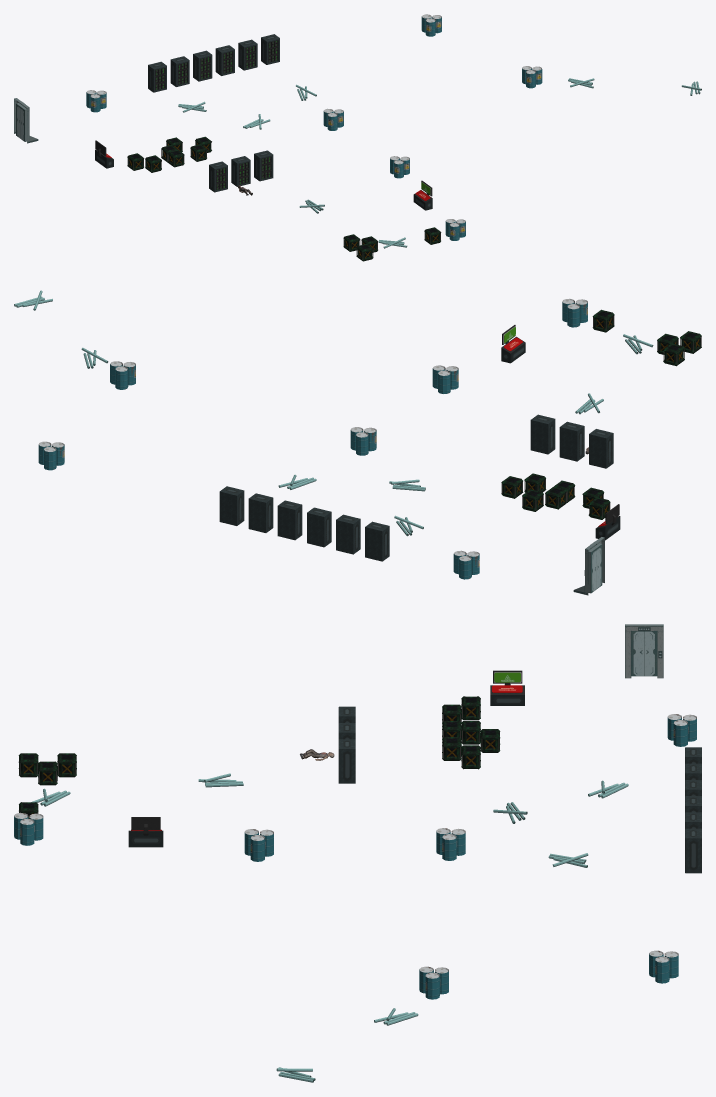
File: MK_Ship_Props.fbx
The picture shows the model from 3 angles, top to bottom: view 1: azimuth 30°, elevation 25°; view 2: azimuth 150°, elevation 25°; view 3: azimuth 270°, elevation 25°; orthographic projection. The views are drawn at different scales.
Visible parts, largest first — view 1: MK_Ship_Elevator1, SM_BigServerComputer88, SM_BigServerComputer90, SM_BigServerComputer91, SM_BigServerComputer96, SM_BigServerComputer89, SM_BigServerComputer94, SM_BigServerComputer95, SM_BigServerComputer87, SM_BigServerComputer93, SM_OilDrums29, SM_OilDrums34 (+5 smaller); view 2: MK_Ship_Elevator1, SM_BigServerComputer90, SM_BigServerComputer91, SM_BigServerComputer94, SM_BigServerComputer95, SM_BigServerComputer96, SM_BigServerComputer89, SM_BigServerComputer87, SM_BigServerComputer88, SM_BigServerComputer93, SM_OilDrums34, SM_OilDrums31 (+6 smaller); view 3: MK_Ship_Elevator1, SM_ComputerDesk32, SM_ComputerDesk33, SM_OilDrums34, SM_OilDrums33, SM_OilDrums32, SM_OilDrums30, SM_OilDrums31, SM_OilDrums29, SM_BigServerComputer96, SM_BigServerComputer95.
Part boxes in pixels (x1=…): MK_Ship_Elevator1: x1=14, y1=98, x2=38, y2=143; SM_BigServerComputer88: x1=170, y1=56, x2=189, y2=86; SM_BigServerComputer90: x1=215, y1=45, x2=234, y2=75; SM_BigServerComputer91: x1=238, y1=39, x2=257, y2=70; SM_BigServerComputer96: x1=254, y1=150, x2=273, y2=181; SM_BigServerComputer89: x1=193, y1=50, x2=212, y2=81; SM_BigServerComputer94: x1=231, y1=156, x2=250, y2=186; SM_BigServerComputer95: x1=261, y1=34, x2=279, y2=64; SM_BigServerComputer87: x1=148, y1=61, x2=166, y2=92; SM_BigServerComputer93: x1=209, y1=161, x2=227, y2=192; SM_OilDrums29: x1=86, y1=90, x2=106, y2=112; SM_OilDrums34: x1=421, y1=14, x2=441, y2=36; MK_Ship_Elevator1: x1=573, y1=537, x2=604, y2=595; SM_BigServerComputer90: x1=277, y1=500, x2=302, y2=540; SM_BigServerComputer91: x1=248, y1=493, x2=273, y2=532; SM_BigServerComputer94: x1=559, y1=421, x2=584, y2=461; SM_BigServerComputer95: x1=219, y1=486, x2=244, y2=525; SM_BigServerComputer96: x1=530, y1=414, x2=555, y2=454; SM_BigServerComputer89: x1=307, y1=507, x2=331, y2=547; SM_BigServerComputer87: x1=365, y1=521, x2=389, y2=561; SM_BigServerComputer88: x1=336, y1=514, x2=360, y2=554; SM_BigServerComputer93: x1=589, y1=429, x2=613, y2=468; SM_OilDrums34: x1=38, y1=441, x2=64, y2=470; SM_OilDrums31: x1=432, y1=365, x2=458, y2=393; MK_Ship_Elevator1: x1=625, y1=624, x2=663, y2=678; SM_ComputerDesk32: x1=490, y1=670, x2=524, y2=705; SM_ComputerDesk33: x1=128, y1=817, x2=163, y2=847; SM_OilDrums34: x1=649, y1=950, x2=678, y2=983; SM_OilDrums33: x1=419, y1=966, x2=448, y2=999; SM_OilDrums32: x1=14, y1=812, x2=43, y2=845; SM_OilDrums30: x1=436, y1=828, x2=465, y2=860; SM_OilDrums31: x1=244, y1=829, x2=273, y2=861; SM_OilDrums29: x1=667, y1=714, x2=696, y2=746; SM_BigServerComputer96: x1=338, y1=739, x2=355, y2=783; SM_BigServerComputer95: x1=685, y1=828, x2=701, y2=873.
Size of the model in its own units: 12.5 by 0.7541 by 8.94.
Materials: 7 (7 with a texture image).
